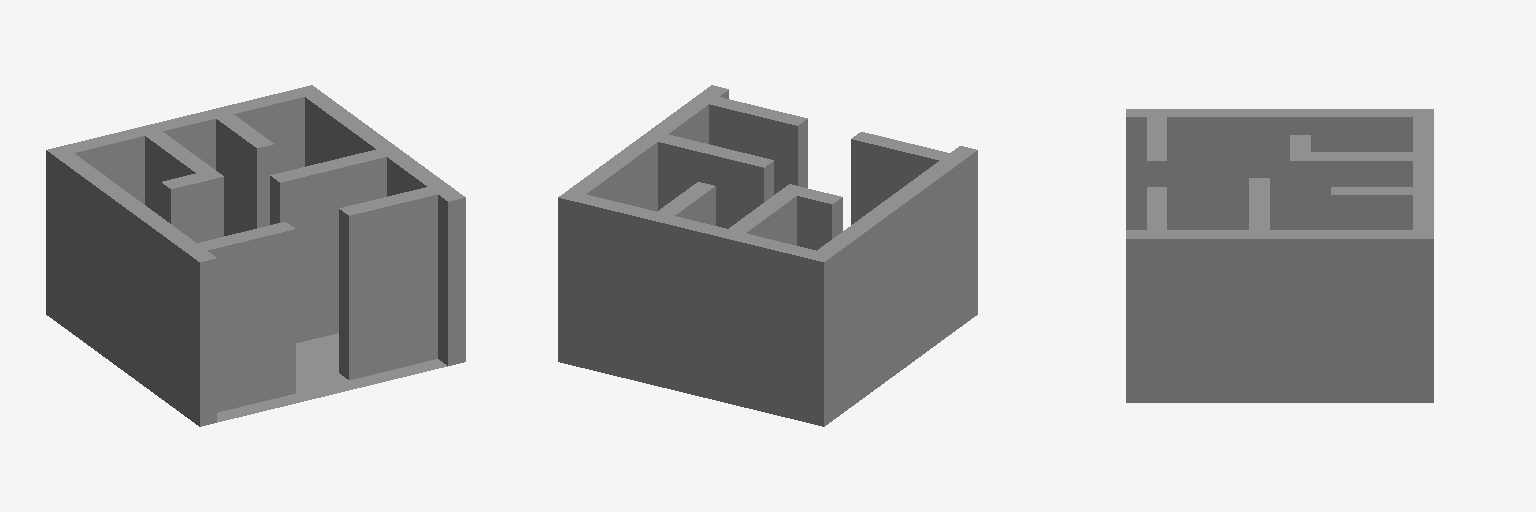
File: paredes.obj
The picture shows the model from 3 angles: view 1: azimuth 30°, elevation 25°; view 2: azimuth 150°, elevation 25°; view 3: azimuth 270°, elevation 25°; orthographic projection.
Size of the model in its own units: 2 by 1.18 by 2.